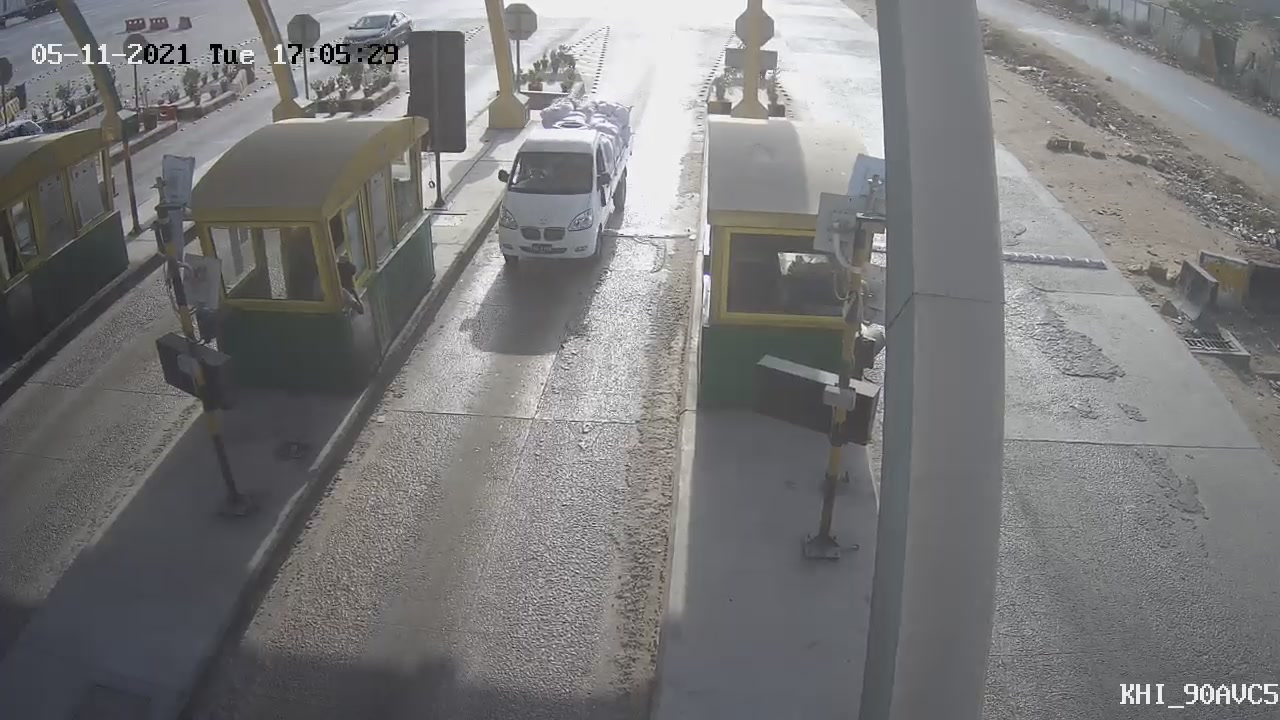F2: (474, 86, 657, 288)
